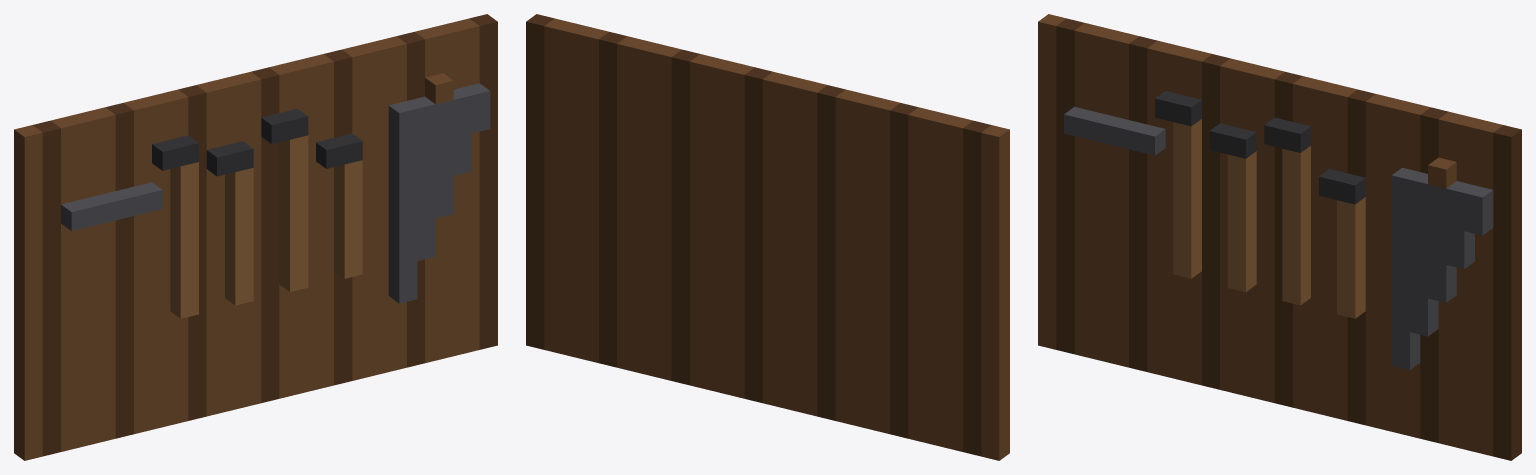
File: prop_hut_toolwall_voxel.fbx
The picture shows the model from 3 angles, left to right: view 1: azimuth 30°, elevation 25°; view 2: azimuth 150°, elevation 25°; view 3: azimuth 330°, elevation 25°; orthographic projection.
Parts seen in each view (by area): view 1: prop_hut_toolwall_voxel; view 2: prop_hut_toolwall_voxel; view 3: prop_hut_toolwall_voxel.
Part boxes in pixels (x1,y1,x2,y2): prop_hut_toolwall_voxel: (14,14,497,460); prop_hut_toolwall_voxel: (526,14,1009,460); prop_hut_toolwall_voxel: (1038,14,1521,460).
Size of the model in its own units: 1.62 by 1.06 by 0.125.
